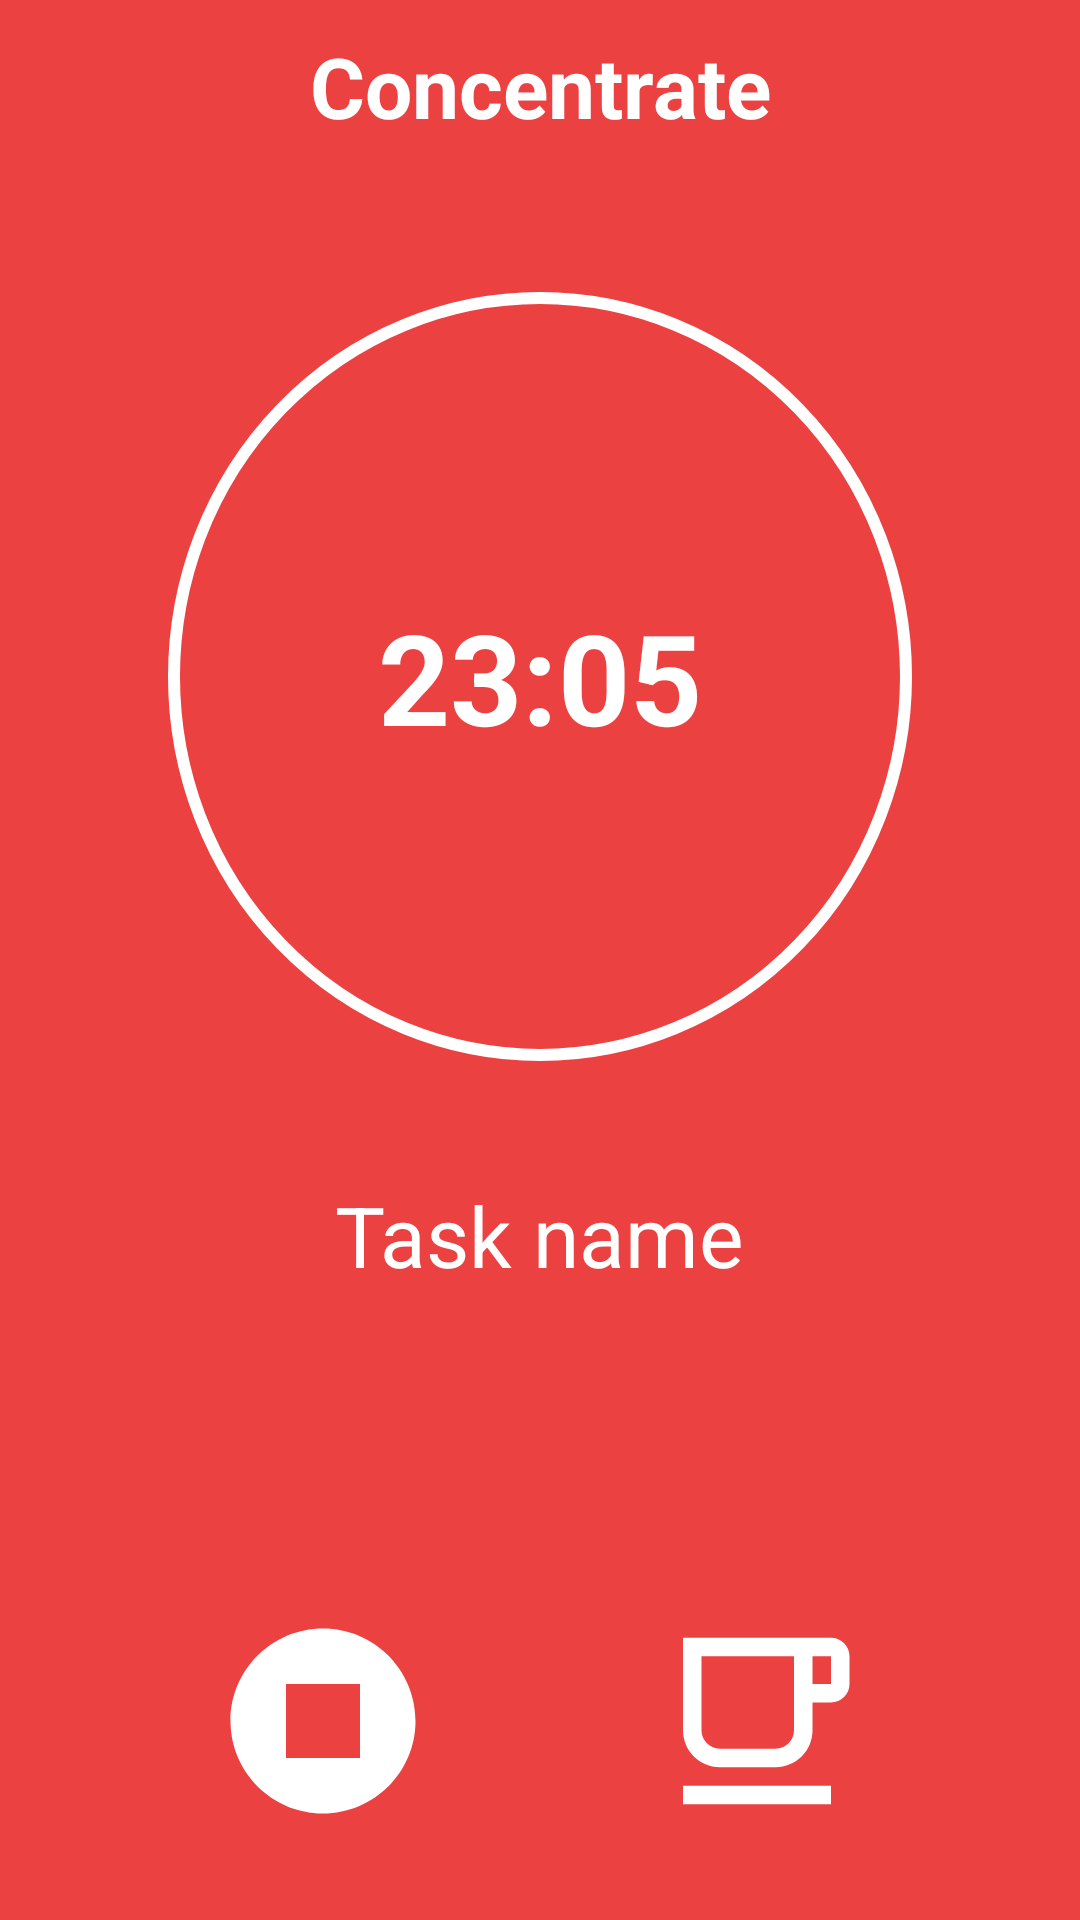

Icon click points for this 1080px×1920px phone screenshot, format (x=x, y=y):
free breakfast: (x=766, y=1721)
stop circle: (x=323, y=1721)
